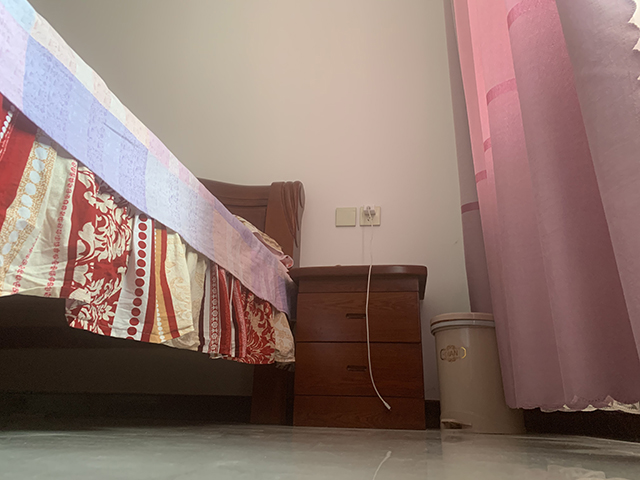bed: (1, 1, 306, 427)
cabinet: (286, 263, 429, 432)
curtain: (443, 1, 640, 415)
trashcan: (428, 312, 525, 436)
